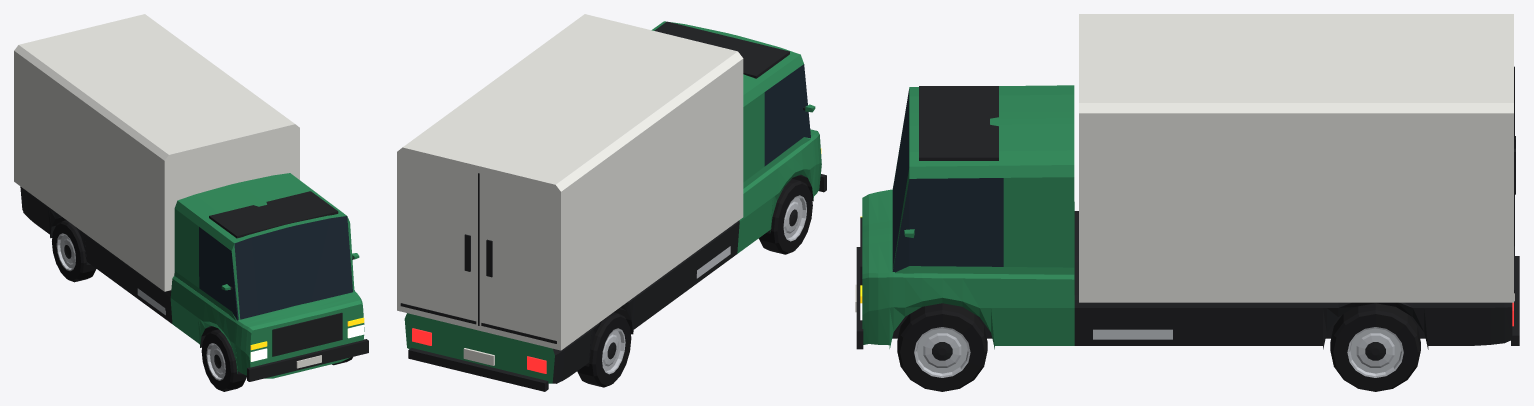
The model's file is box-truck-01.glb.
3 renders of one model, left to right at view 1: azimuth 30°, elevation 25°; view 2: azimuth 150°, elevation 25°; view 3: azimuth 270°, elevation 25°, orthographic. The views are drawn at different scales.
Visible parts, largest first — view 1: Body, Wheel_FR, Wheel_RR; view 2: Body, Wheel_FR, Wheel_RR; view 3: Body, Wheel_FL, Wheel_RL.
Boxes of the visible parts, left/top/right/bottom form: Body: left=14, top=14, right=368, bottom=381; Wheel_FR: left=201, top=329, right=246, bottom=391; Wheel_RR: left=52, top=220, right=96, bottom=282; Body: left=397, top=14, right=826, bottom=391; Wheel_FR: left=758, top=179, right=812, bottom=254; Wheel_RR: left=577, top=312, right=631, bottom=387; Body: left=855, top=14, right=1519, bottom=349; Wheel_FL: left=897, top=303, right=987, bottom=391; Wheel_RL: left=1330, top=303, right=1420, bottom=391.
Bounding box in the file's own units: 2.4 × 3.4 × 7.06.
